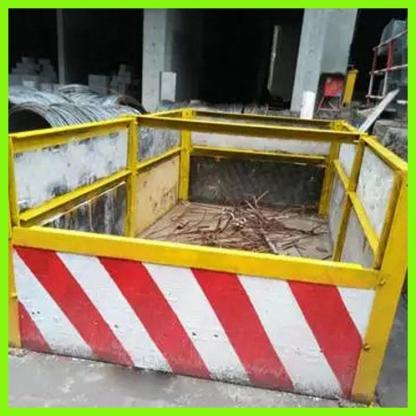rebar: (162, 187, 318, 258)
